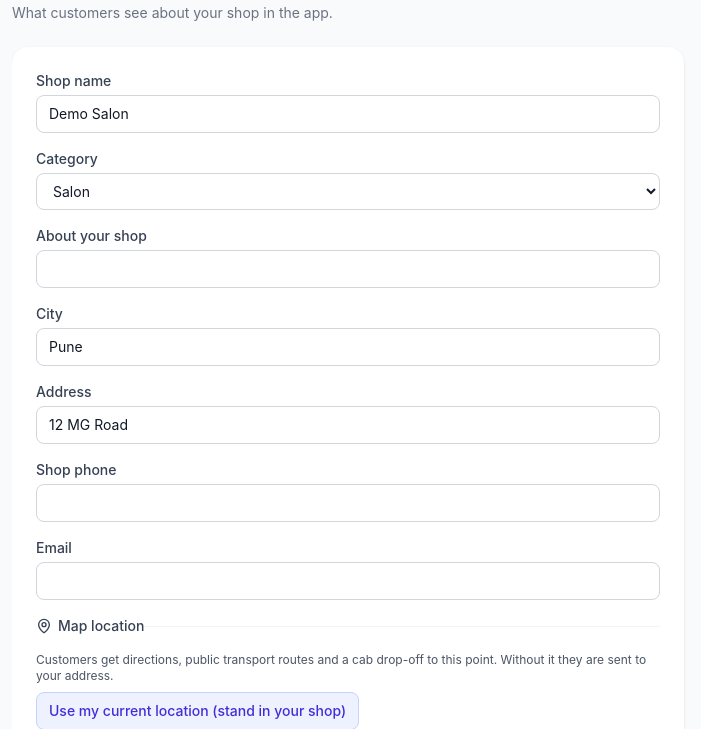
SettingsPage map location › offers the category list and saves a phone typed the Indian way
Expected: the dropdown labelled "Category" shows "Salon", [36,173,660,210]
Type "98765 43210" into the field labelled "Shop phone" at (348, 503), box [36,484,660,522]
(page scrolled)
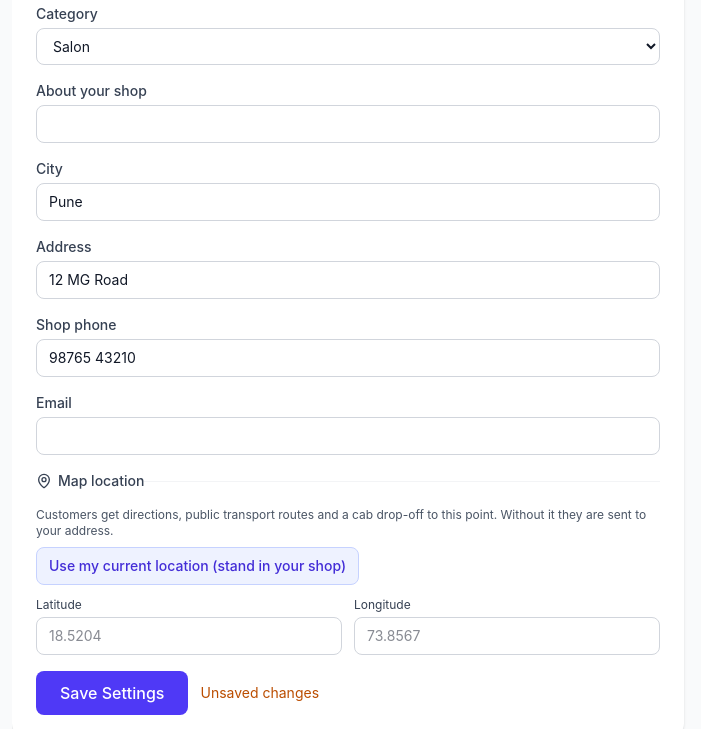
Now the text "Unsaved changes" is shown, box [200,683,319,703]
Click the button "Save Settings" at (112, 693), box [36,671,188,715]
(page scrolled)
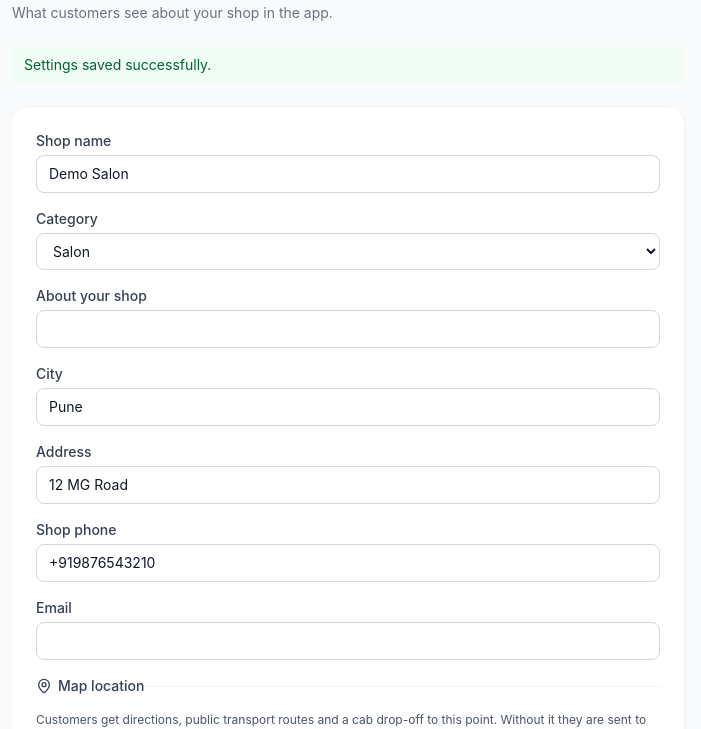
Now the text "Settings saved successfully." is shown, box [12,47,684,83]
